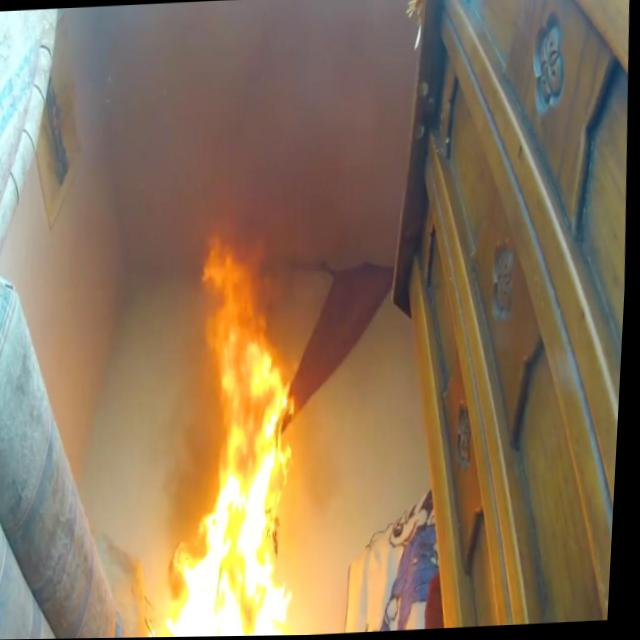fire: (150, 225, 323, 638)
